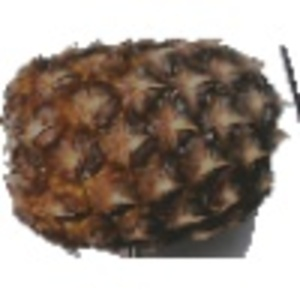abacaxi: (7, 24, 283, 246)
